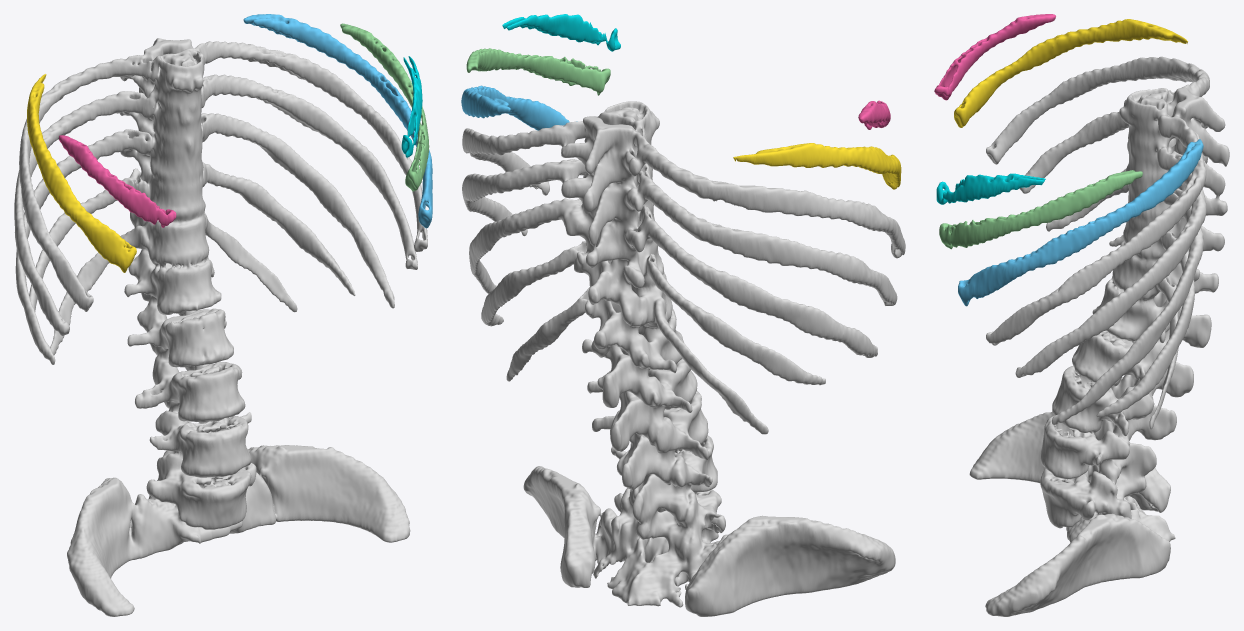
Rendered from 3DPX-020646.glb.
The picture shows the model from 3 angles, left to right: view 1: azimuth 30°, elevation 25°; view 2: azimuth 150°, elevation 25°; view 3: azimuth 270°, elevation 25°; orthographic projection. The views are drawn at different scales.
Visible parts, largest first — view 1: _label_1, _label_1.035, _label_1.046, _label_1.068, _label_1.053, _label_1.073; view 2: _label_1, _label_1.046, _label_1.053, _label_1.035, _label_1.073, _label_1.068; view 3: _label_1, _label_1.035, _label_1.046, _label_1.053, _label_1.068, _label_1.073.
Boxes of the visible parts, <box> form: _label_1: <box>14,38,427,616</box>; _label_1.035: <box>243,14,432,228</box>; _label_1.046: <box>27,74,136,272</box>; _label_1.068: <box>59,135,176,227</box>; _label_1.053: <box>340,23,429,191</box>; _label_1.073: <box>401,56,422,157</box>; _label_1: <box>462,101,905,616</box>; _label_1.046: <box>733,143,901,189</box>; _label_1.053: <box>466,48,610,95</box>; _label_1.035: <box>461,85,577,130</box>; _label_1.073: <box>502,14,620,51</box>; _label_1.068: <box>858,100,890,129</box>; _label_1: <box>969,56,1229,616</box>; _label_1.035: <box>958,139,1203,306</box>; _label_1.046: <box>954,19,1187,127</box>; _label_1.053: <box>939,170,1142,249</box>; _label_1.068: <box>934,14,1055,100</box>; _label_1.073: <box>936,173,1045,204</box>.
Size of the model in its own units: 275 by 318 by 189.
